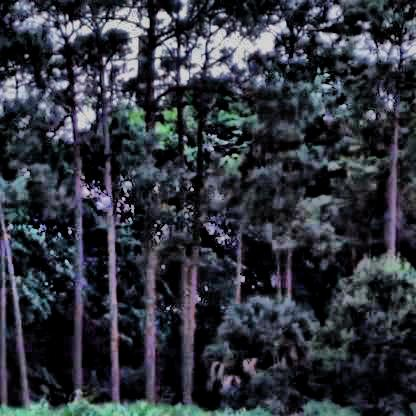golfball: (99, 194, 108, 203)
